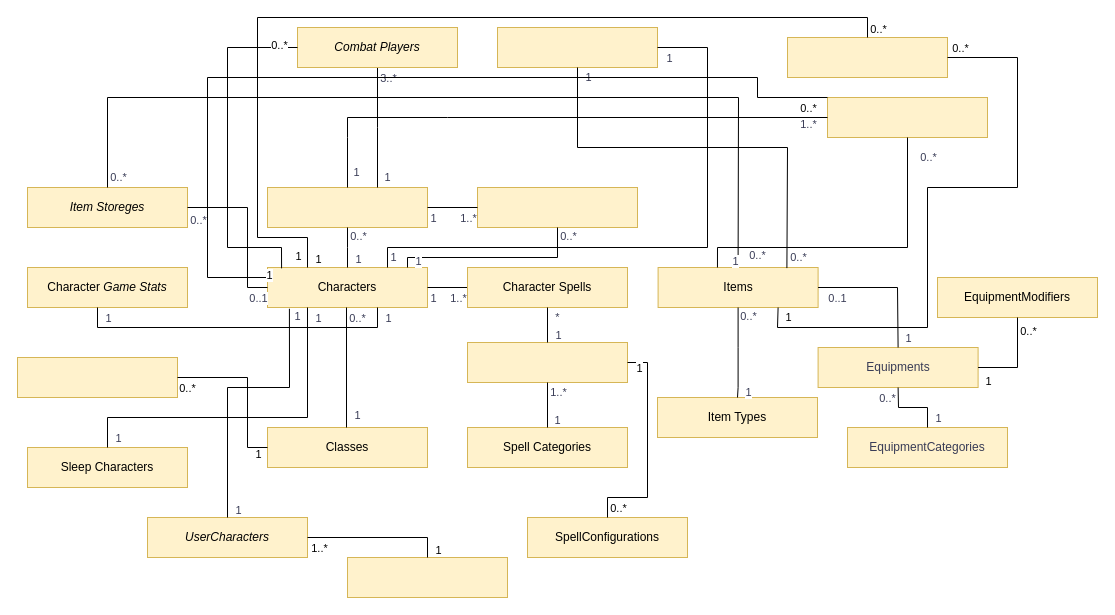
Some shapes in this 1115 by 615 pixel diagram are drawn without their labels. Each missing label, with the centre of its shape:
CharacterEquipments: point (867, 57)
ClassModifiers: point (97, 377)
Combat Logs: point (557, 207)
Combats: point (347, 207)
Game Items: point (907, 117)
Inventories: point (577, 47)
Spells: point (547, 362)
Users: point (427, 577)
